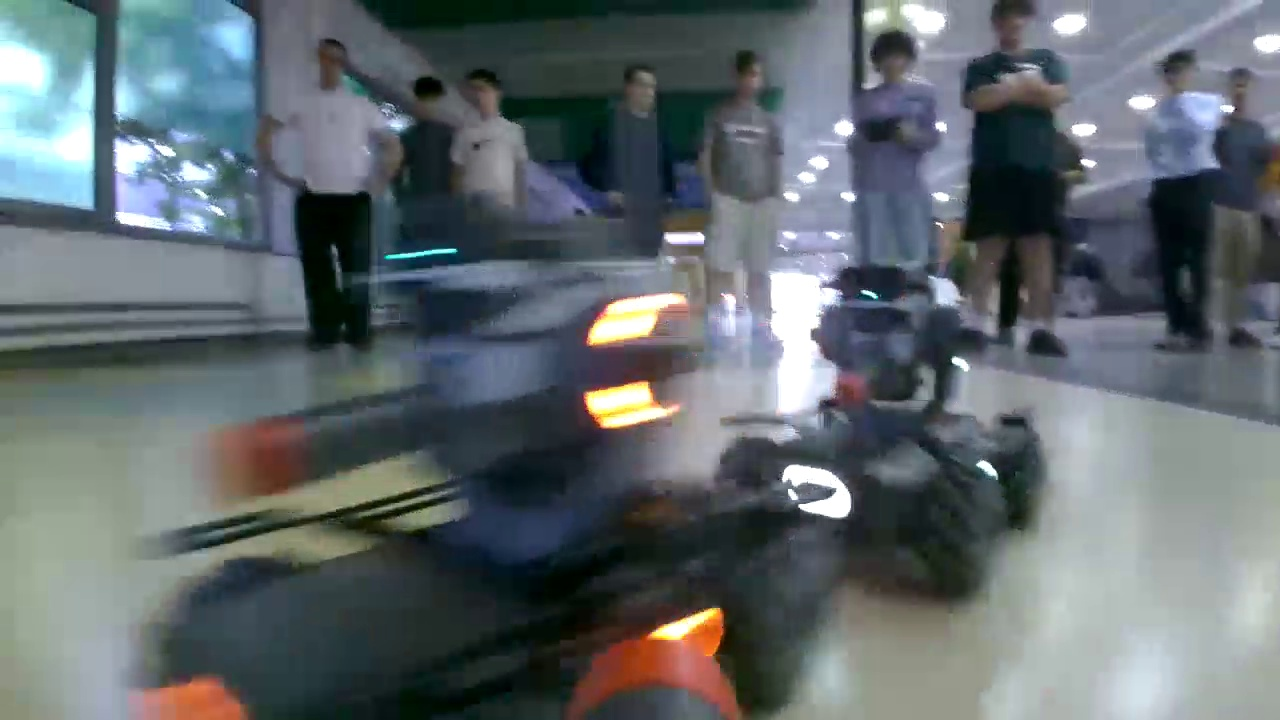robot: (120, 234, 817, 720), (713, 260, 1045, 604)
